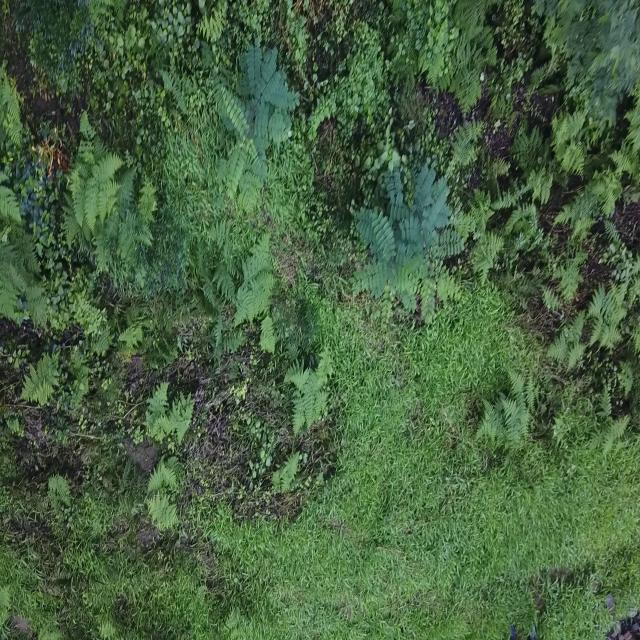Mysore-Thorn-Weed: (344, 150, 474, 332), (199, 31, 299, 224)
